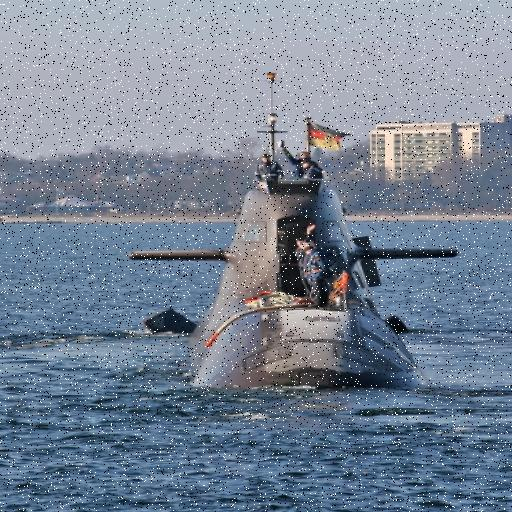submarine: (118, 69, 469, 392)
